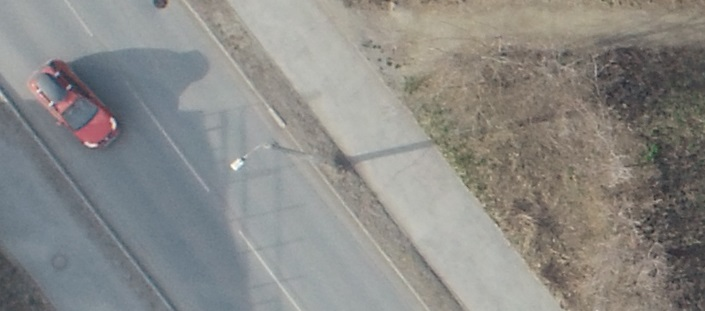opora: (224, 140, 412, 175)
